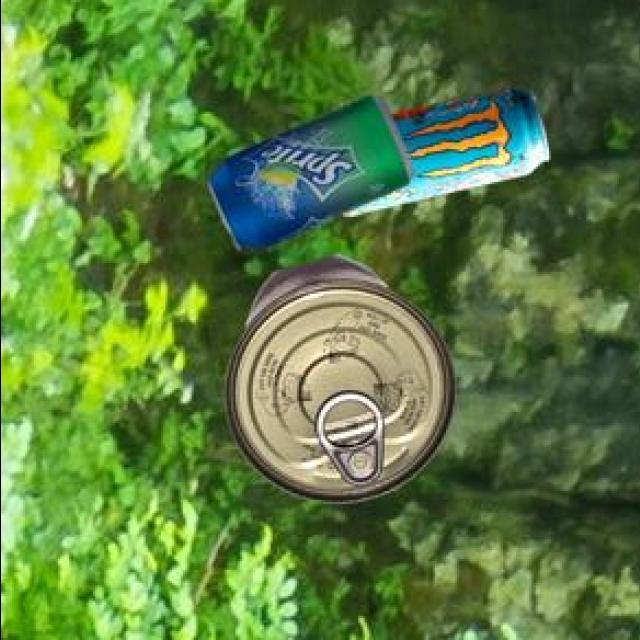logam: (227, 253, 459, 499), (212, 93, 415, 244), (345, 84, 551, 214)
